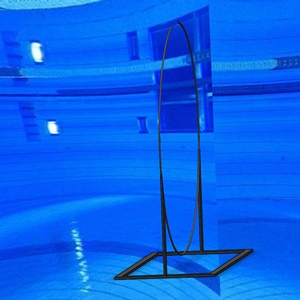circle: (112, 21, 254, 280)
